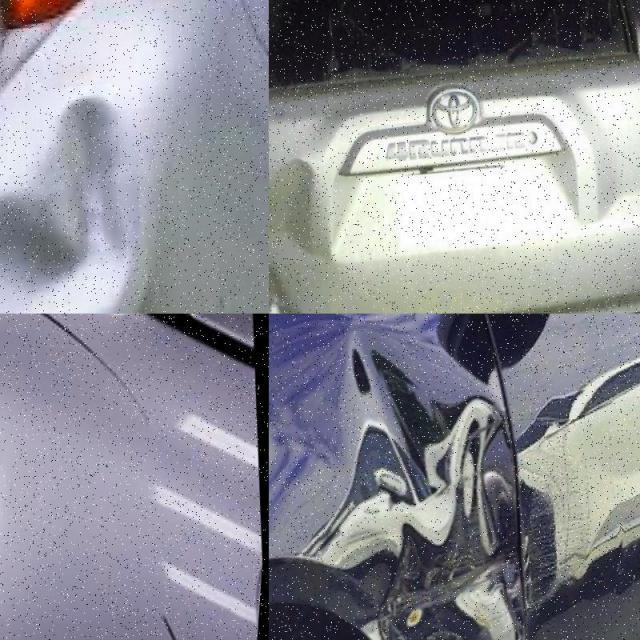car damage: (294, 321, 539, 630), (1, 87, 153, 314), (267, 156, 337, 275)
